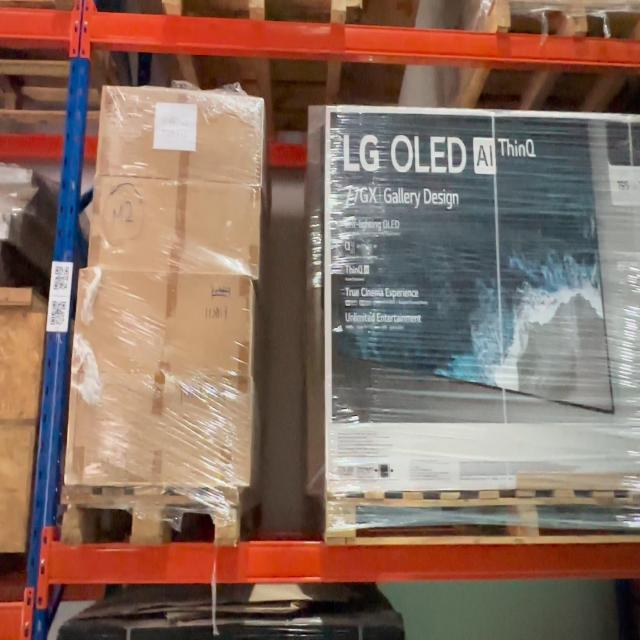box: (70, 380, 250, 484), (79, 274, 249, 378), (94, 188, 260, 268), (102, 97, 262, 179)
